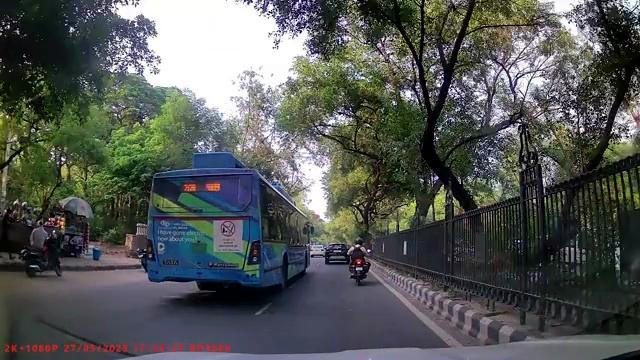motorcycle_with_helmet: (347, 236, 371, 286)
